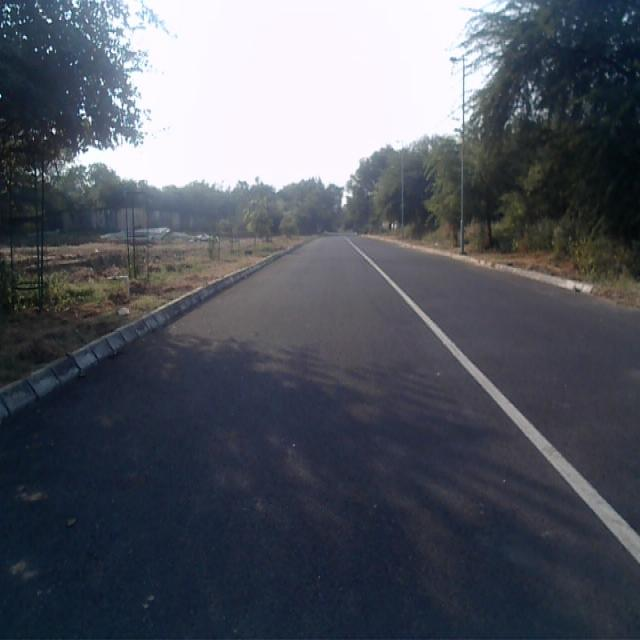lane: (0, 237, 640, 640)
